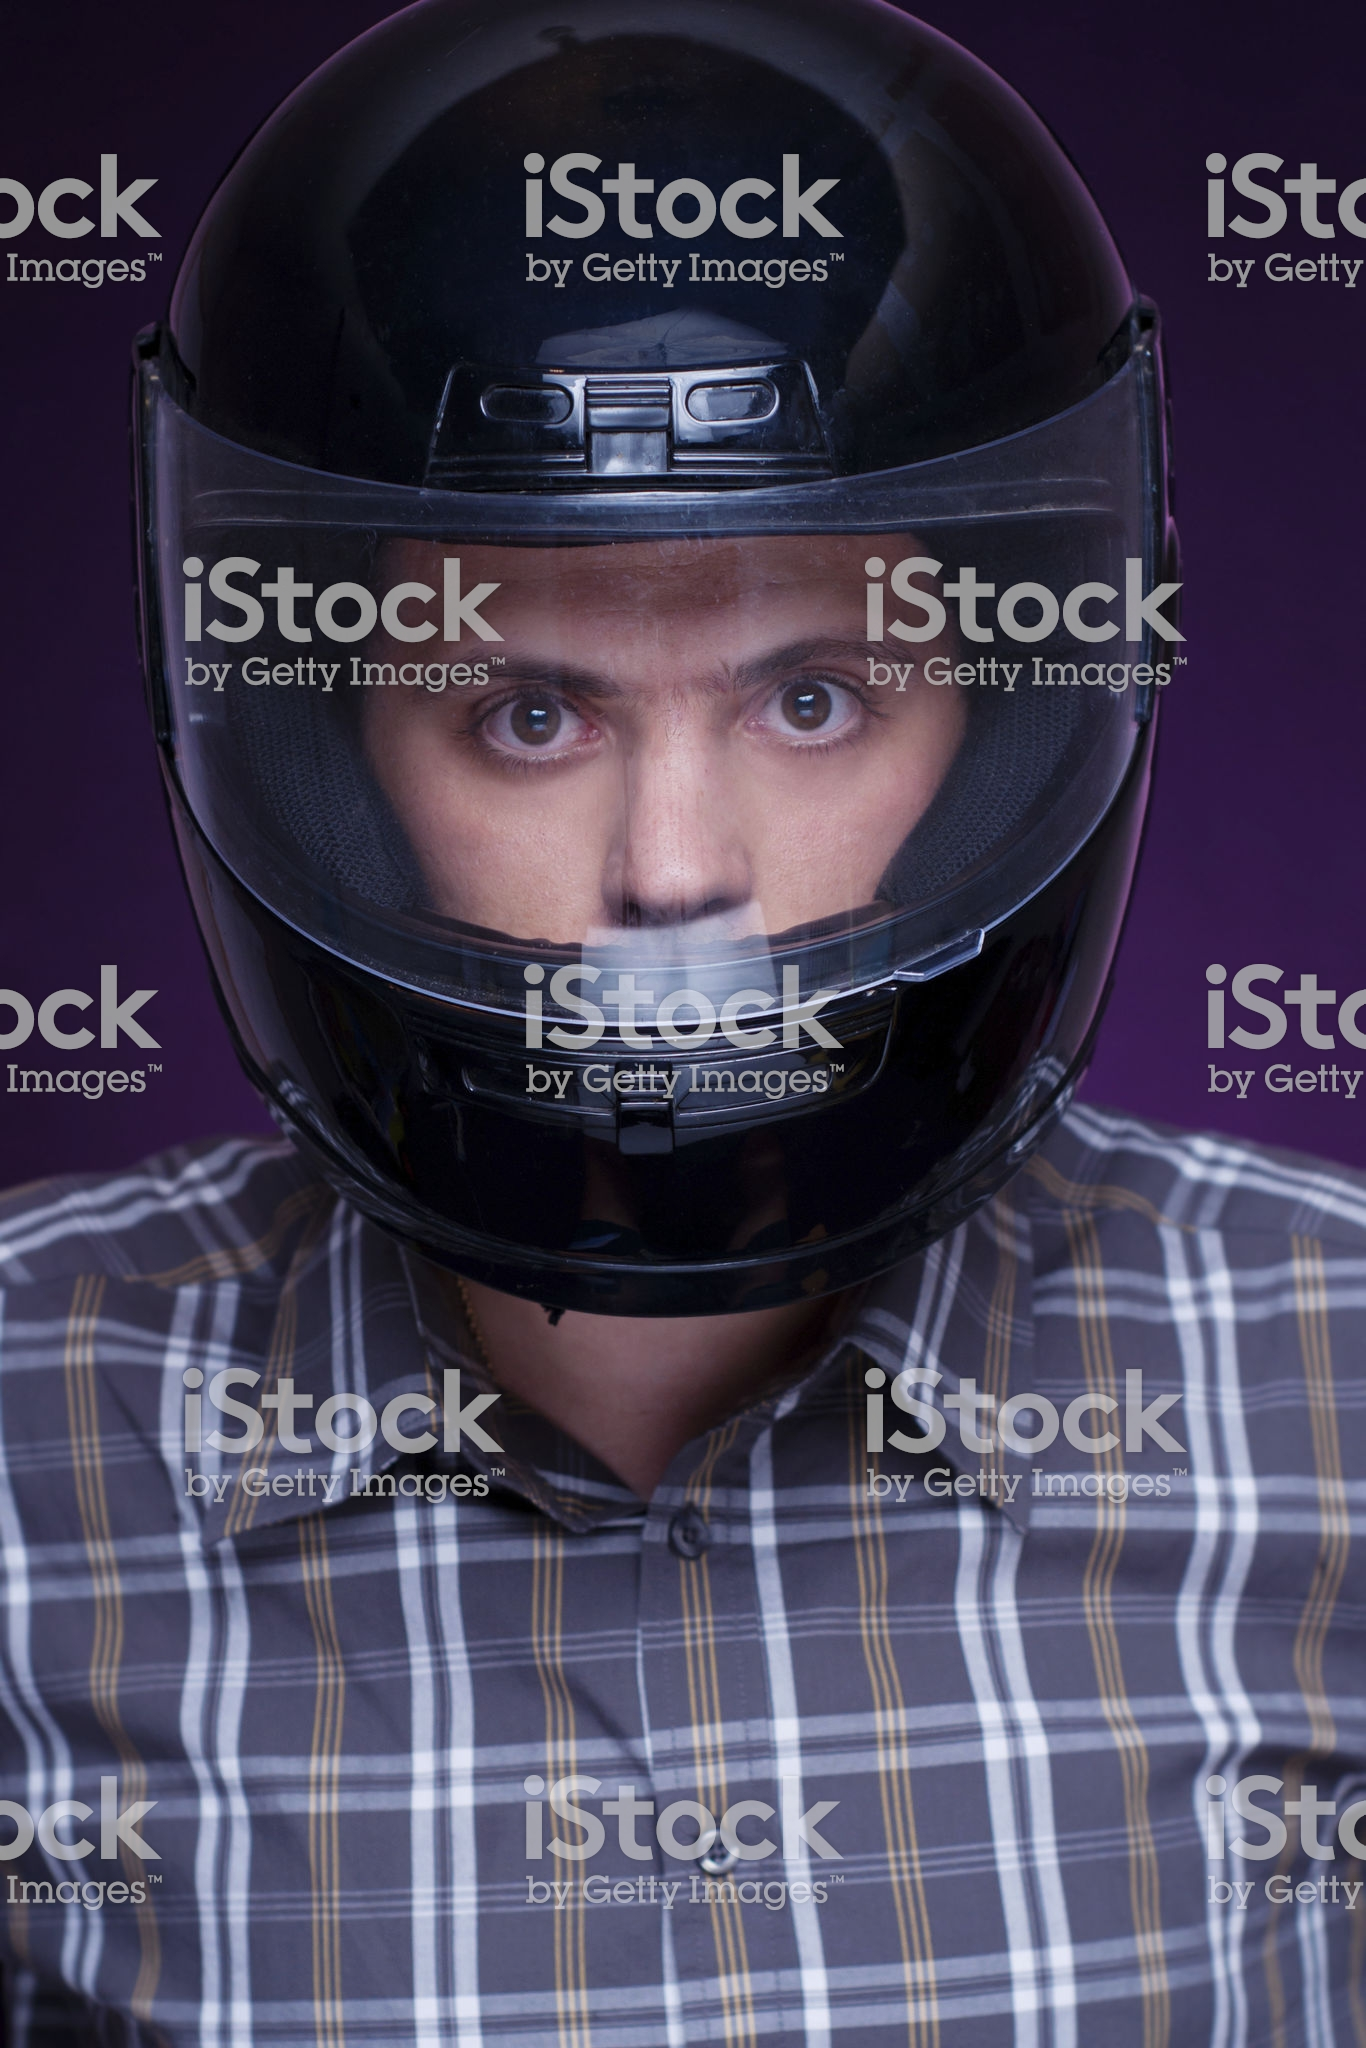helmet: (120, 53, 1238, 1335)
